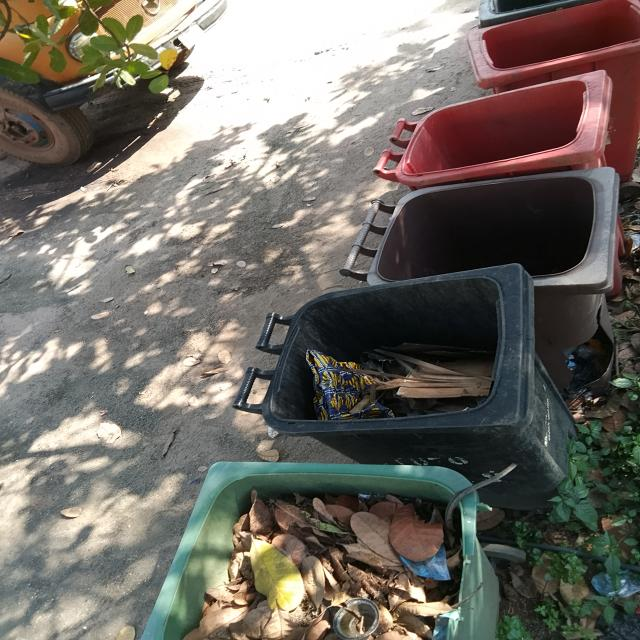full: (142, 454, 482, 640)
half-full: (272, 269, 531, 437), (360, 170, 620, 282), (393, 70, 612, 173), (462, 0, 640, 76)
